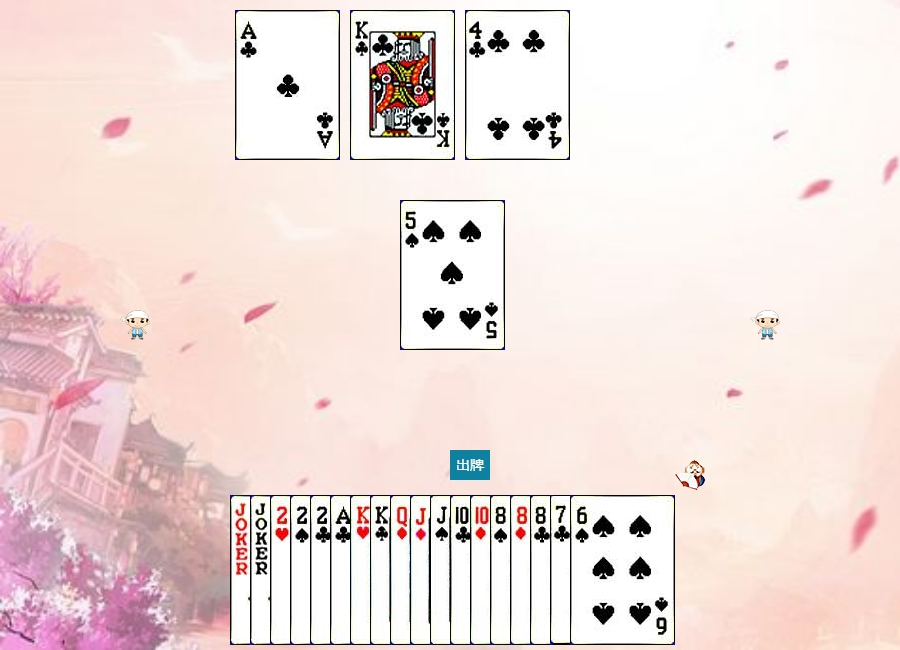10~1: (470, 495, 575, 645)
10~2: (450, 495, 555, 645)
11~1: (410, 495, 515, 645)
11~4: (430, 495, 535, 645)
12~1: (390, 495, 495, 645)
13~2: (350, 10, 455, 160), (370, 495, 475, 645)
13~3: (350, 495, 455, 645)
14~2: (235, 10, 340, 160), (330, 495, 435, 645)
15~2: (310, 495, 415, 645)
15~3: (270, 495, 375, 645)
15~4: (290, 495, 395, 645)
17~3: (250, 495, 355, 645)
18~4: (230, 495, 335, 645)
4~2: (465, 10, 570, 160)
5~4: (400, 200, 505, 350)
6~4: (570, 495, 675, 645)
7~2: (550, 495, 655, 645)
8~1: (510, 495, 615, 645)
8~2: (530, 495, 635, 645)
8~4: (490, 495, 595, 645)
